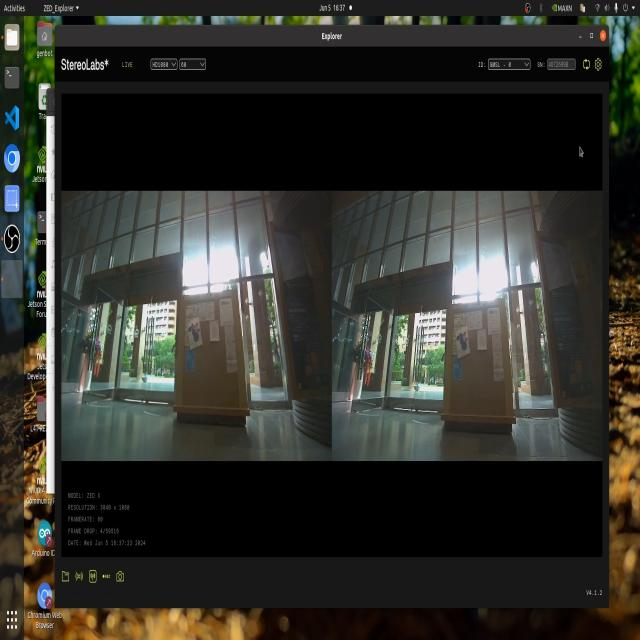blue: (454, 329, 474, 358), (188, 313, 203, 343)
